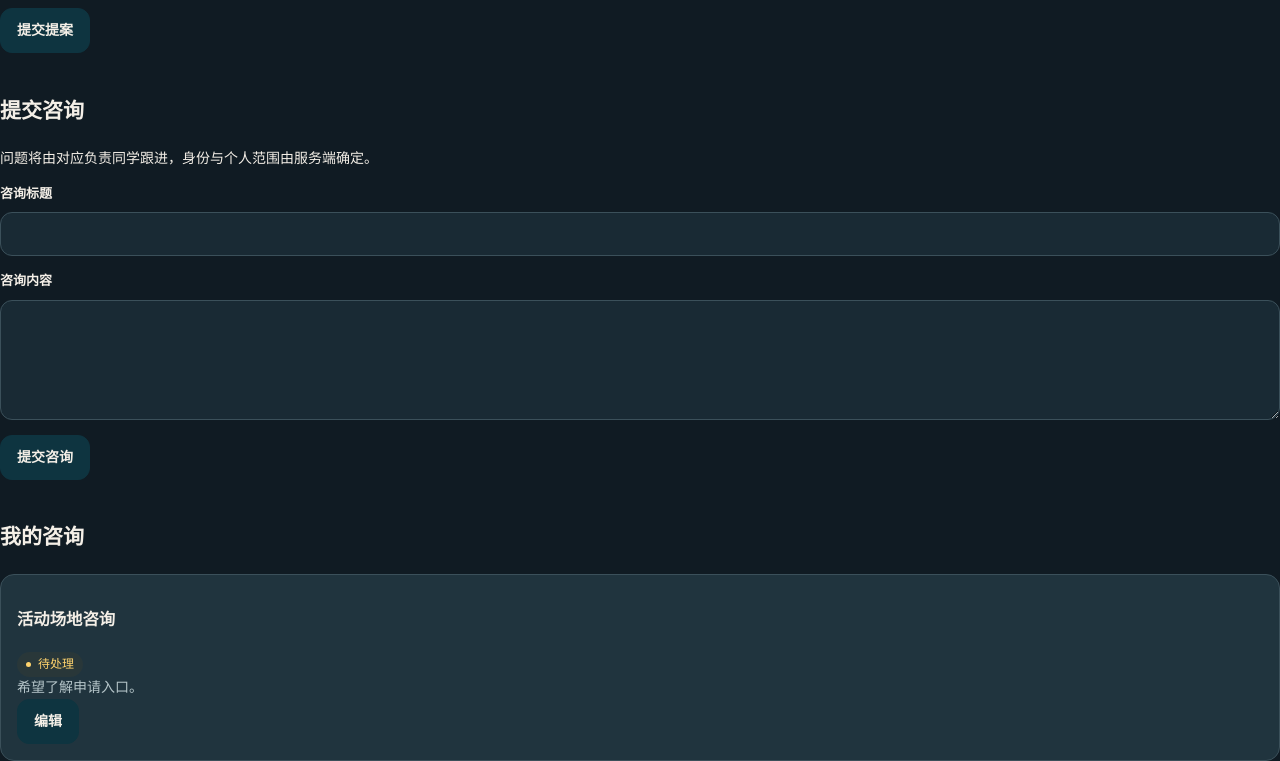
Scenario: InformationPage › renders ordinary own-consultation view with open editing and submission
The image size is (1280, 761).
(page scrolled)
Expected: the heading "我的咨询" is shown, [0,525,84,550]
Click the button with aria-label "编辑 活动场地咨询" at (48, 722), box [17,699,79,744]
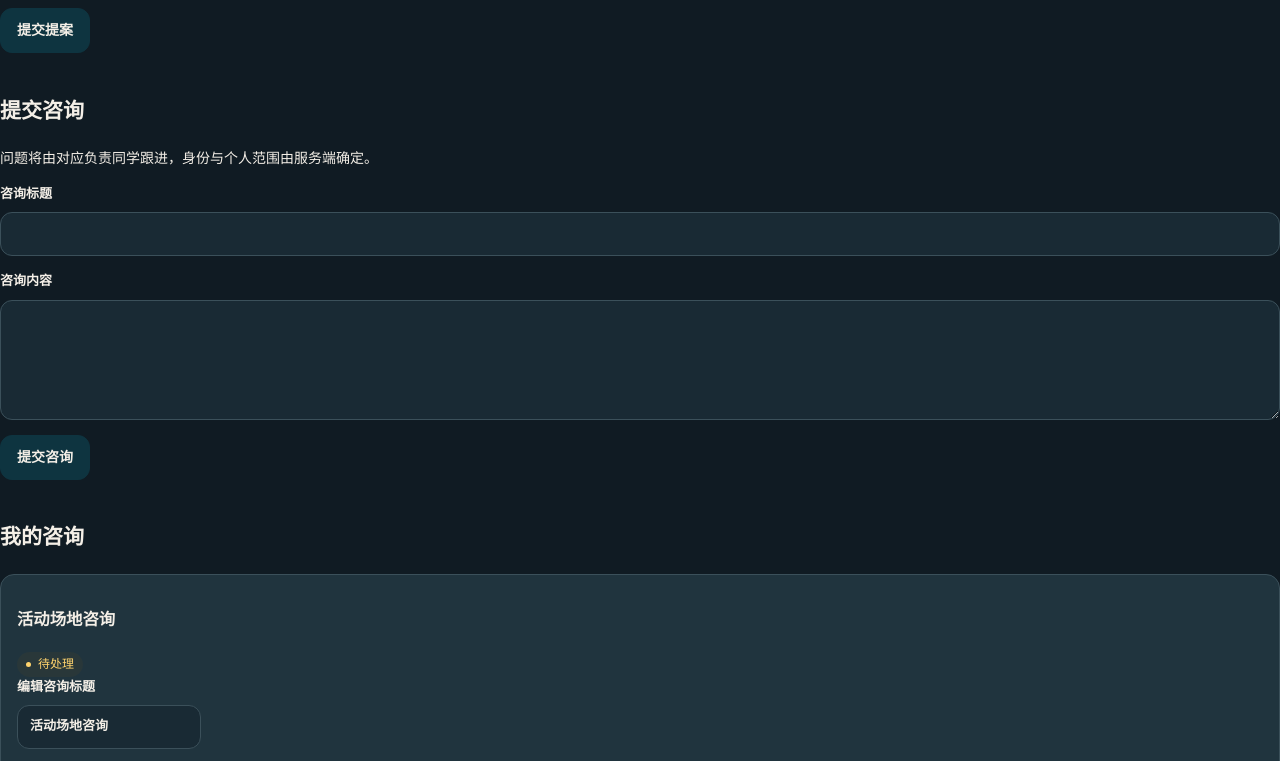
Replace the text in the field labelled "编辑咨询标题" with "场地开放时间咨询" at (109, 727), box [17,705,201,749]
(page scrolled)
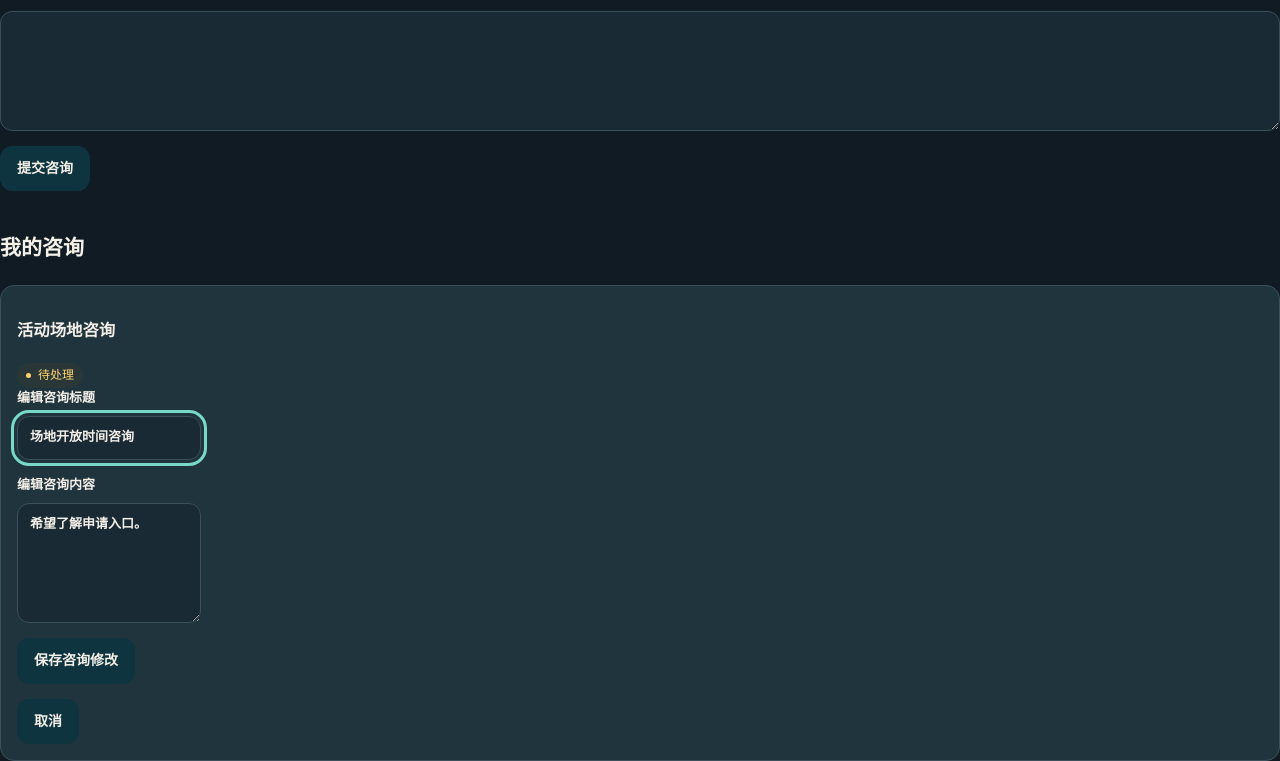
Click the button "保存咨询修改" at (76, 661), box [17,638,135,684]
(page scrolled)
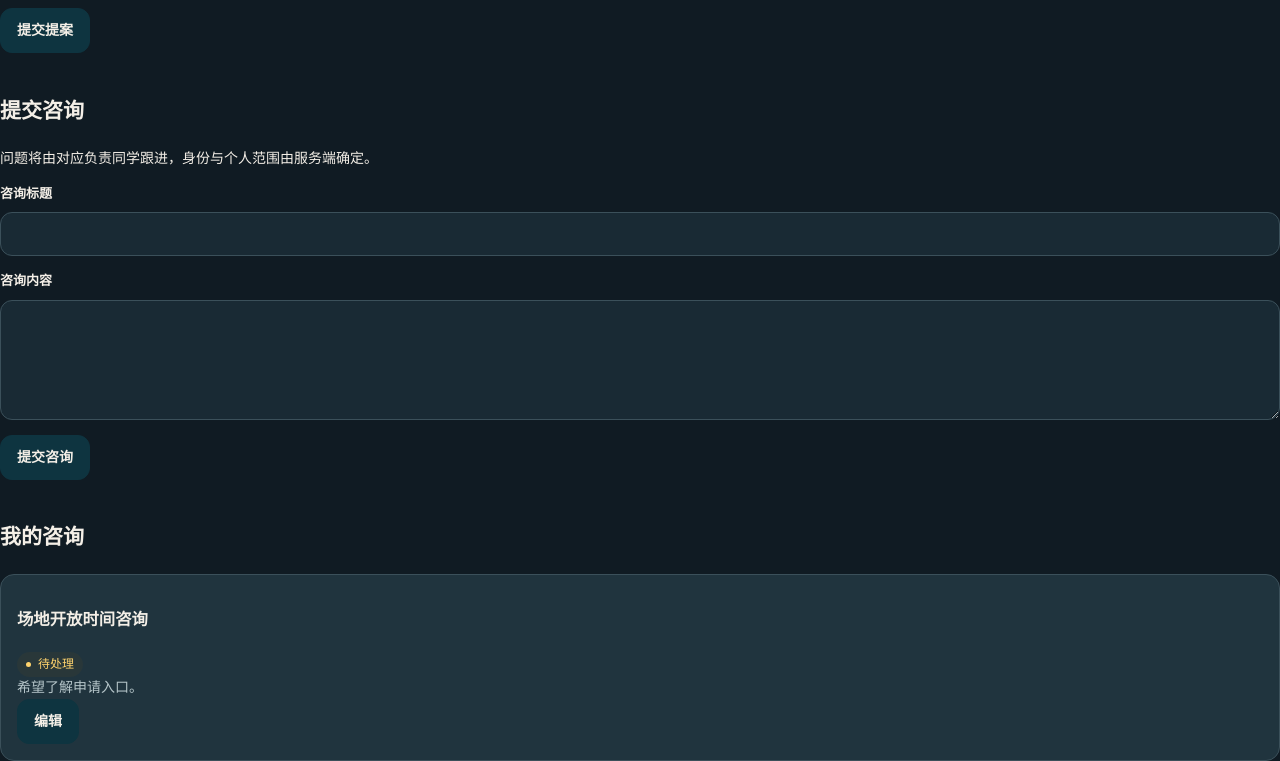
Expected: the heading "场地开放时间咨询" is shown, [17,607,148,634]
